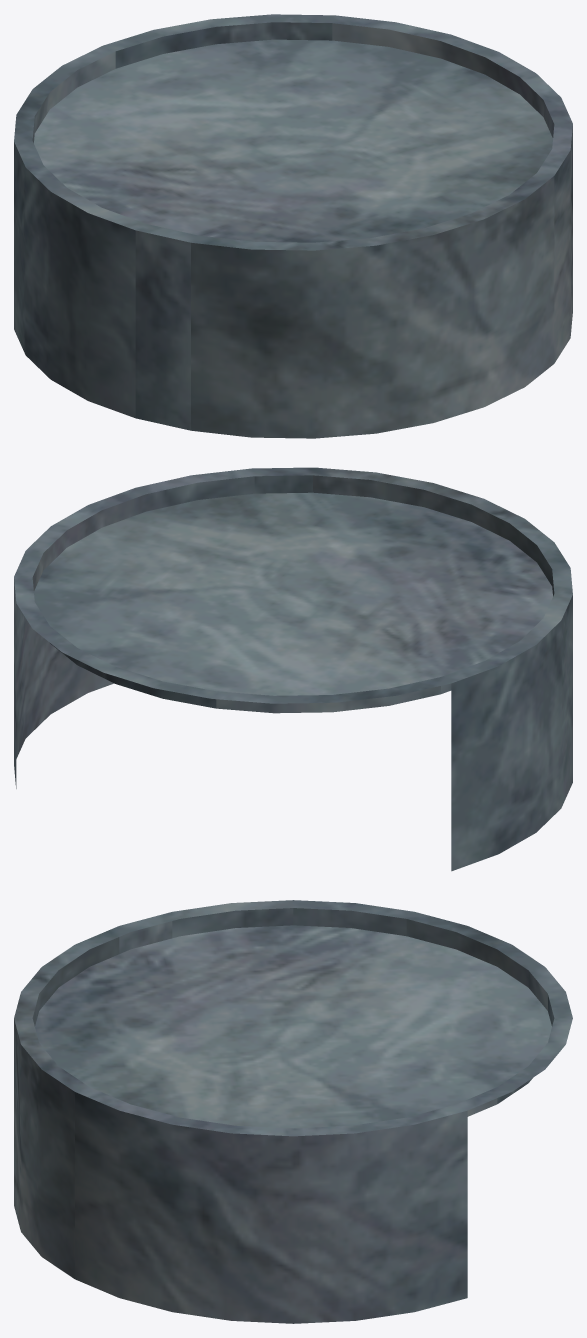
The model's file is SM_Town012_HT.FBX.
3 views of the same model, one above another, from view 1: azimuth 30°, elevation 25°; view 2: azimuth 150°, elevation 25°; view 3: azimuth 270°, elevation 25° (orthographic).
Parts seen in each view (by area): view 1: SM_Town012_HT; view 2: SM_Town012_HT; view 3: SM_Town012_HT.
Boxes of the visible parts, x1,y1,x2,y2 form: SM_Town012_HT: (14,14,572,438); SM_Town012_HT: (14,467,572,871); SM_Town012_HT: (14,900,572,1323).
Size of the model in its own units: 7243 by 2680 by 7243.
1 material, 1 textured.
